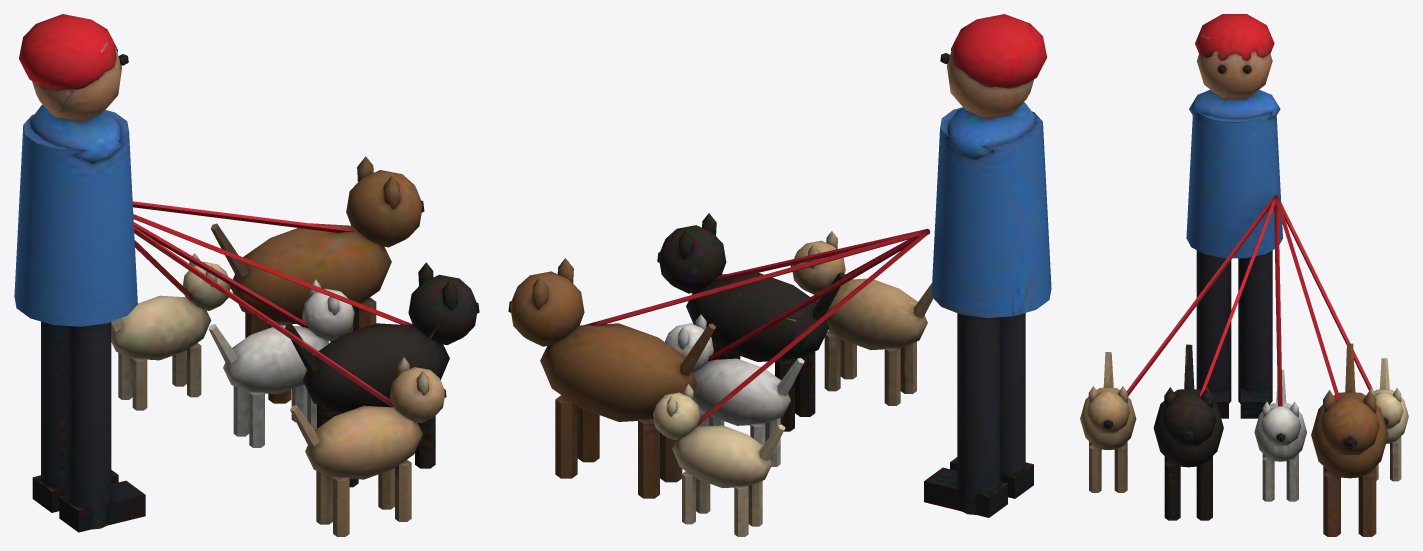
File: paseador.glb
The picture shows the model from 3 angles, left to right: view 1: azimuth 30°, elevation 25°; view 2: azimuth 150°, elevation 25°; view 3: azimuth 270°, elevation 25°; orthographic projection. The views are drawn at different scales.
Visible parts, largest first — view 1: paseador; view 2: paseador; view 3: paseador.
Boxes of the visible parts, bbox=[...] form: paseador: bbox=[14, 14, 479, 536]; paseador: bbox=[508, 14, 1051, 536]; paseador: bbox=[1080, 14, 1408, 536].
Size of the model in its own units: 1.84 by 1.83 by 1.43.
1 material, 1 textured.
